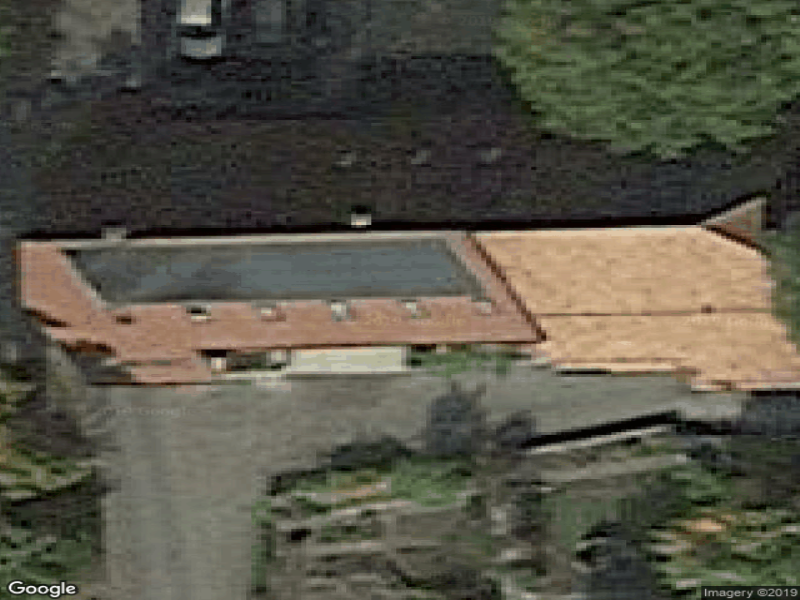pv: (59, 240, 488, 305)
